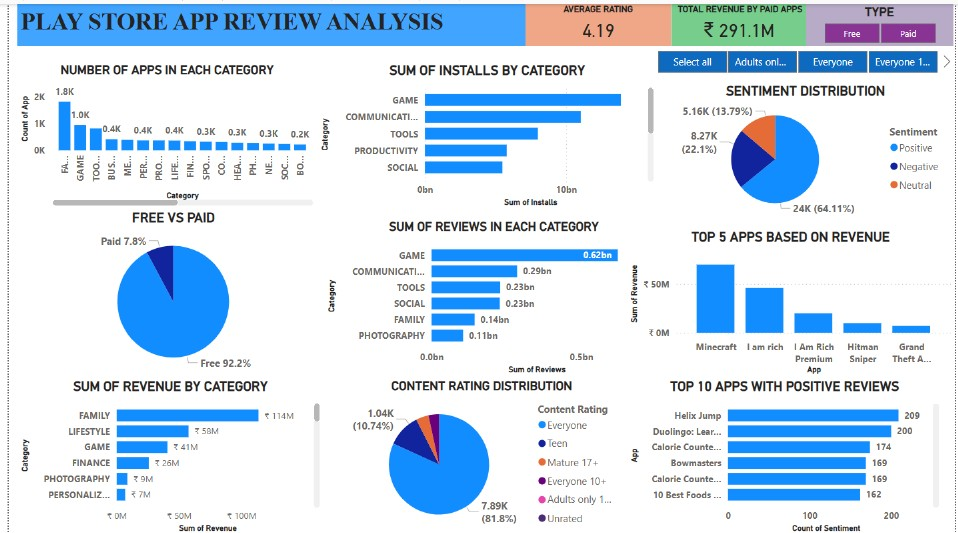

Layout of this report page (visuals, bound fields, positions):
{"tool":"powerbi","page":{"name":"Page 1","canvas":[1280,720],"ordinal":0},"visuals":[{"type":"columnChart","title":"NUMBER OF APPS IN EACH CATEGORY","fields":{"Category":["Play Store Data.Category"],"Y":["CountNonNull(Play Store Data.App)"]},"box":[11.1,78.9,405.6,198.9],"z":0},{"type":"pieChart","title":"FREE VS PAID","fields":{"Category":["Play Store Data.Type"],"Y":["CountNonNull(Play Store Data.App)"]},"box":[28.2,278.4,388.9,227.7],"z":1000},{"type":"barChart","title":"SUM OF REVENUE BY CATEGORY","fields":{"Category":["Play Store Data.Category"],"Y":["Sum(Play Store Data.Revenue)"]},"box":[11,506.3,414.5,214],"z":2000},{"type":"clusteredBarChart","title":"SUM OF REVIEWS IN EACH CATEGORY","fields":{"Category":["Play Store Data.Category"],"Y":["Sum(Play Store Data.Reviews)"]},"box":[425.6,291.1,460,214.4],"z":3000},{"type":"pieChart","title":"CONTENT RATING DISTRIBUTION","fields":{"Category":["Play Store Data.Content Rating"],"Y":["CountNonNull(Play Store Data.Content Rating)"]},"box":[444.1,506.1,391.1,214.2],"z":4000},{"type":"columnChart","title":"TOP 5 APPS BASED ON REVENUE","fields":{"Category":["Play Store Data.App"],"Y":["Sum(Play Store Data.Revenue)"]},"box":[835.6,304.4,444.4,201.1],"z":5000},{"type":"pieChart","title":"SENTIMENT DISTRIBUTION","fields":{"Category":["User Reviews.Sentiment"],"Y":["CountNonNull(User Reviews.Sentiment)"]},"box":[876.9,107.1,401.3,184.8],"z":6000},{"type":"clusteredBarChart","title":"TOP 10 APPS WITH POSITIVE REVIEWS","fields":{"Category":["User Reviews.App"],"Y":["CountNonNull(User Reviews.Sentiment)"]},"box":[835.2,506.1,428.3,214.2],"z":7000},{"type":"slicer","fields":{"Values":["Play Store Data.Content Rating"]},"box":[852.2,56.7,427.8,43.3],"z":8000},{"type":"slicer","title":"TYPE","fields":{"Values":["Play Store Data.Type"]},"box":[1077.8,0,200,56.7],"z":9000},{"type":"textbox","box":[11.1,0,687.8,56.7],"z":10000},{"type":"barChart","title":"SUM OF INSTALLS BY CATEGORY","fields":{"Category":["Play Store Data.Category"],"Y":["Sum(Play Store Data.Installs)"]},"box":[416.7,78.9,460,200],"z":11000},{"type":"card","title":"TOTAL REVENUE BY PAID APPS","fields":{"Values":["Sum(Play Store Data.Revenue)"]},"box":[895.6,0,182.2,56.7],"z":12000},{"type":"card","title":"AVERAGE RATING","fields":{"Values":["Avg(Play Store Data.Rating)"]},"box":[698.9,0,196.7,56.7],"z":13000}]}

Visuals, with their boxes in screenshot pixels (x1, y1, x2, y2), scaled from the page's 1280x720 canvas onto the 958x533 screenshot:
"NUMBER OF APPS IN EACH CATEGORY" columnChart: (x1=8, y1=58, x2=312, y2=206)
"FREE VS PAID" pieChart: (x1=21, y1=206, x2=312, y2=375)
"SUM OF REVENUE BY CATEGORY" barChart: (x1=8, y1=375, x2=318, y2=532)
"SUM OF REVIEWS IN EACH CATEGORY" clusteredBarChart: (x1=319, y1=215, x2=663, y2=374)
"CONTENT RATING DISTRIBUTION" pieChart: (x1=332, y1=375, x2=625, y2=532)
"TOP 5 APPS BASED ON REVENUE" columnChart: (x1=625, y1=225, x2=957, y2=374)
"SENTIMENT DISTRIBUTION" pieChart: (x1=656, y1=79, x2=957, y2=216)
"TOP 10 APPS WITH POSITIVE REVIEWS" clusteredBarChart: (x1=625, y1=375, x2=946, y2=532)
slicer - Play Store Data.Content Rating: (x1=638, y1=42, x2=957, y2=74)
"TYPE" slicer: (x1=807, y1=0, x2=956, y2=42)
textbox: (x1=8, y1=0, x2=523, y2=42)
"SUM OF INSTALLS BY CATEGORY" barChart: (x1=312, y1=58, x2=656, y2=206)
"TOTAL REVENUE BY PAID APPS" card: (x1=670, y1=0, x2=807, y2=42)
"AVERAGE RATING" card: (x1=523, y1=0, x2=670, y2=42)
